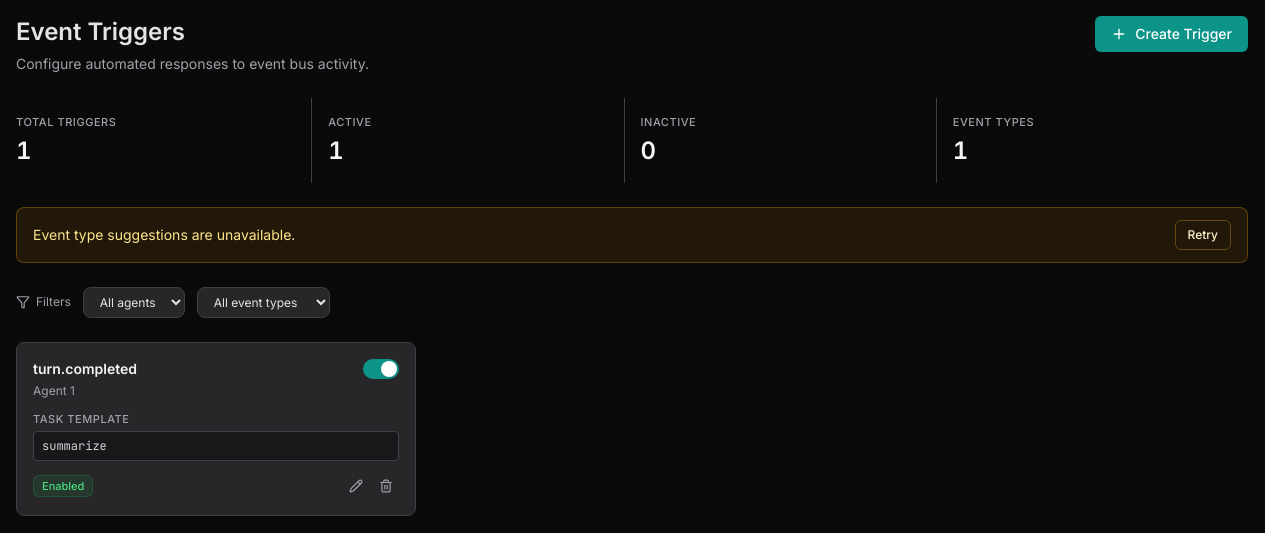
Test: TriggersPage › shows a visible retryable warning when event types fail to load
Click the button with test id "triggers-type-retry-button" at (1203, 234), box [1174, 220, 1231, 250]
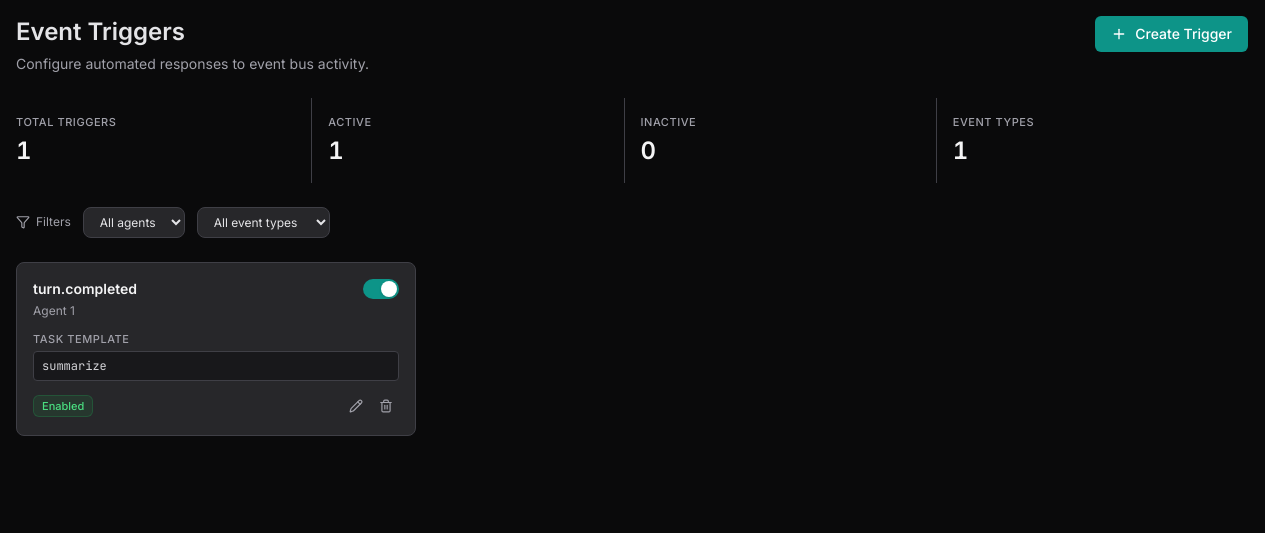
Expected: the text "Event type suggestions are unavailable." is gone
